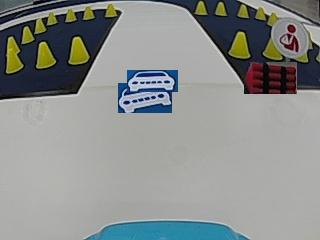cone: (68, 36, 89, 65), (229, 31, 250, 59), (35, 41, 56, 69), (5, 38, 22, 72), (262, 37, 282, 60), (22, 25, 34, 43), (104, 3, 117, 18), (64, 8, 77, 22), (82, 6, 95, 20), (194, 1, 207, 15), (35, 18, 47, 33), (237, 4, 249, 18), (46, 11, 58, 24), (215, 2, 227, 15), (255, 6, 265, 20)
patient: (273, 17, 306, 51)
